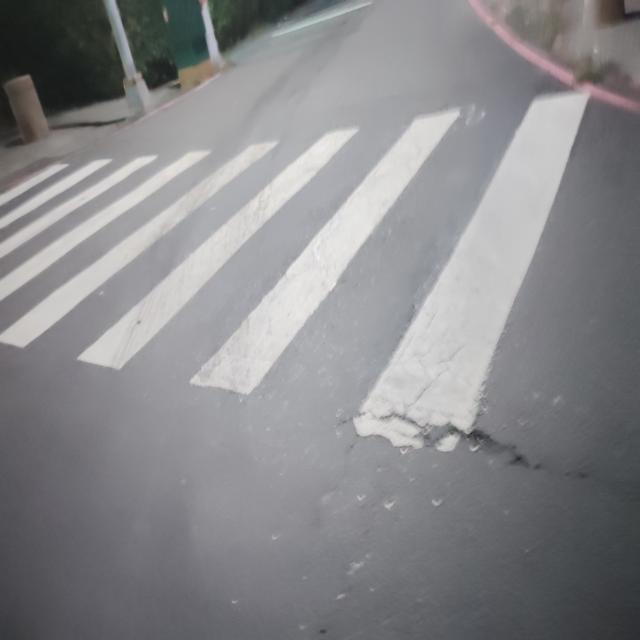zebra crossing: (2, 92, 588, 447)
